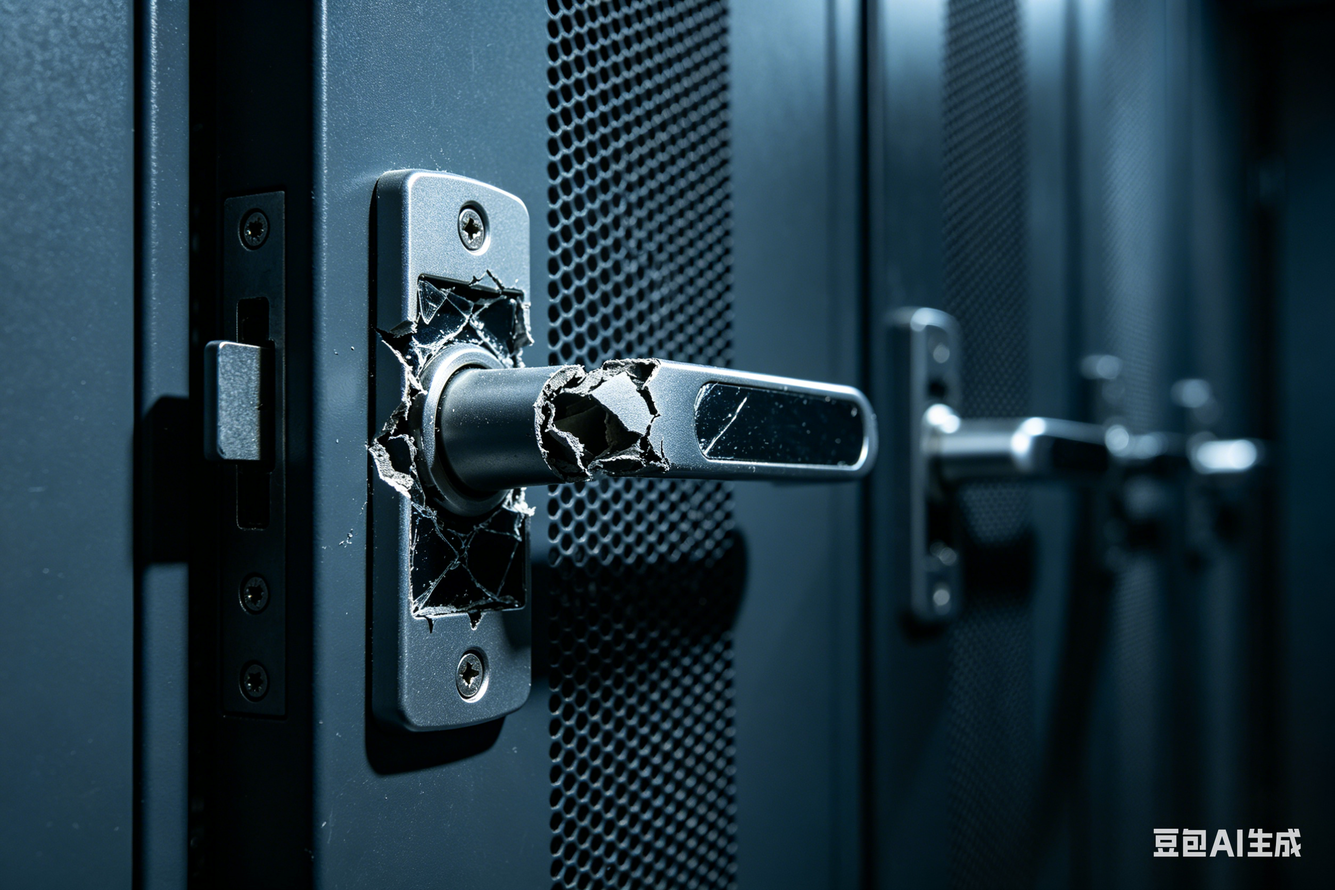BadLock: (366, 272, 667, 635)
